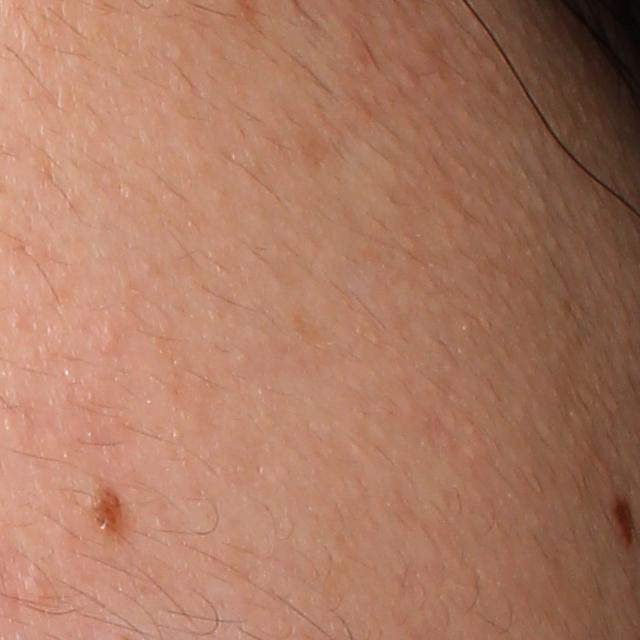nevus: (85, 475, 126, 536), (610, 490, 638, 551)
